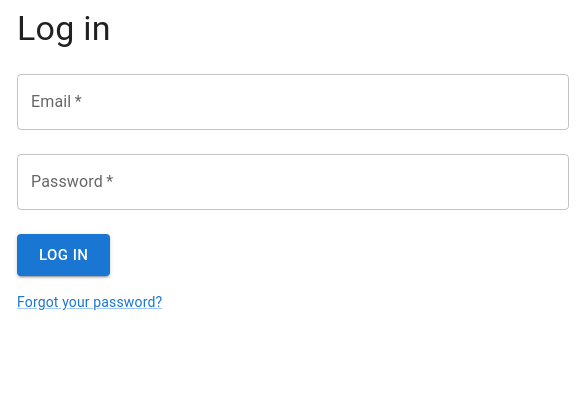
Scenario: LoginPage › shows the generic rejection for invalid credentials
The width and height of the screenshot is (586, 399).
In the field labelled "Email *": (293, 102) [17,74,569,130], type "nobody@example.com"
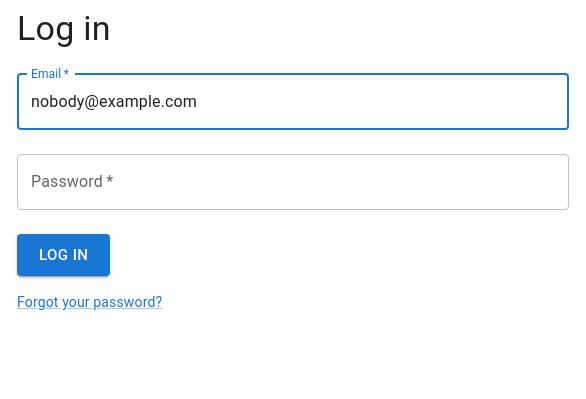
In the password field labelled "Password *": (293, 182) [17,154,569,210], type "wrong-password"
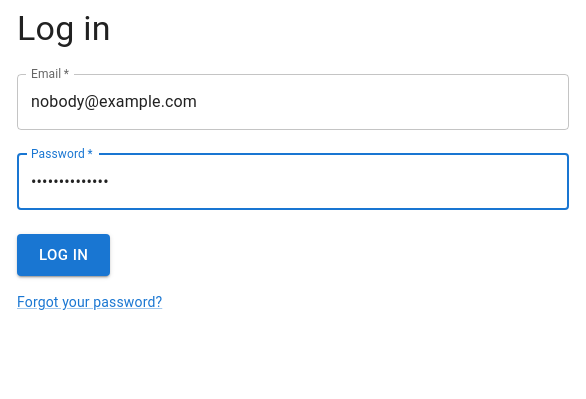
Click the button "Log in": (64, 255) [17,234,110,276]
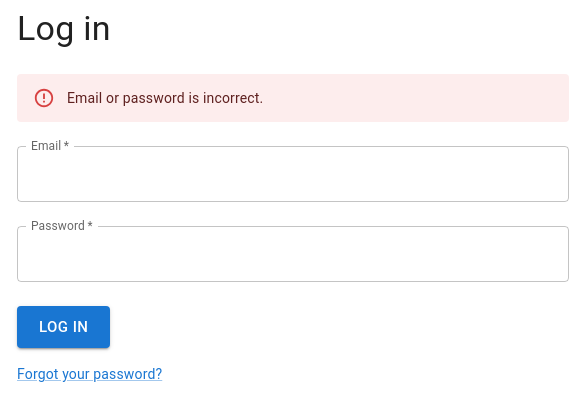
Now the text "Email or password is incorrect." is shown, box [67,90,263,106]
